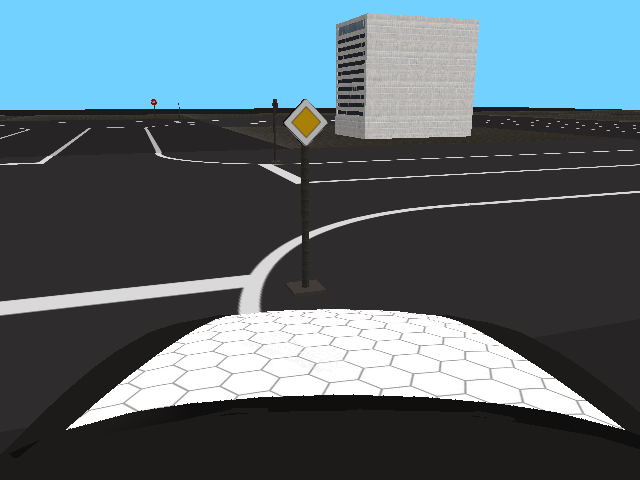priority: (283, 99, 327, 146)
